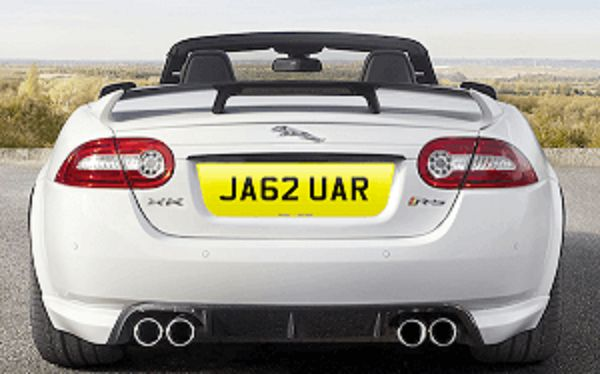plate: (201, 165, 395, 216)
